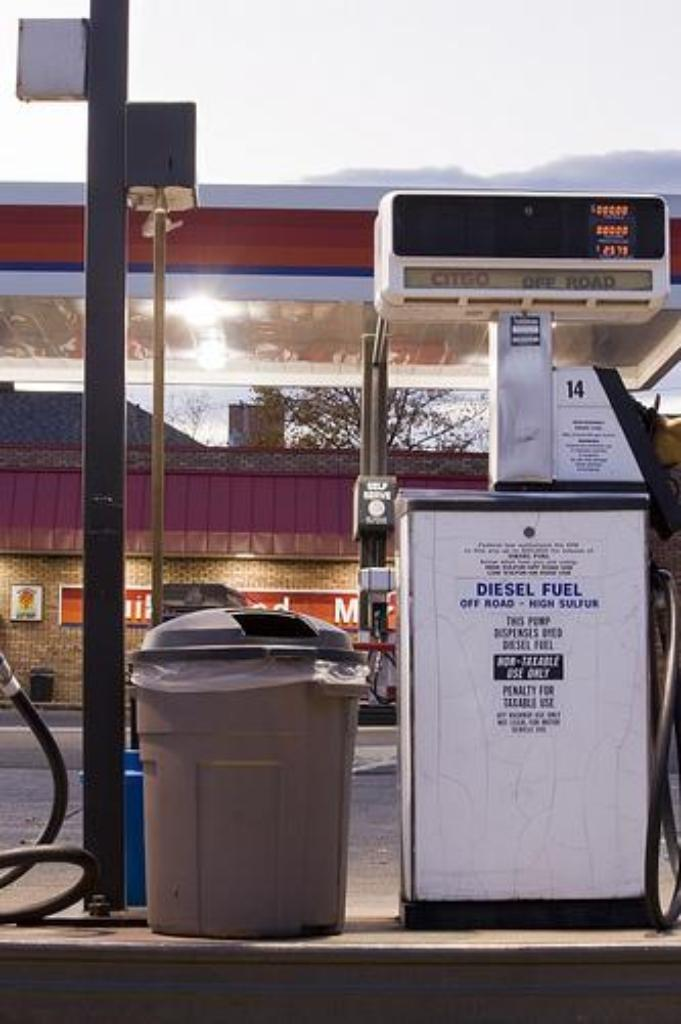dustbin: (125, 595, 384, 945)
